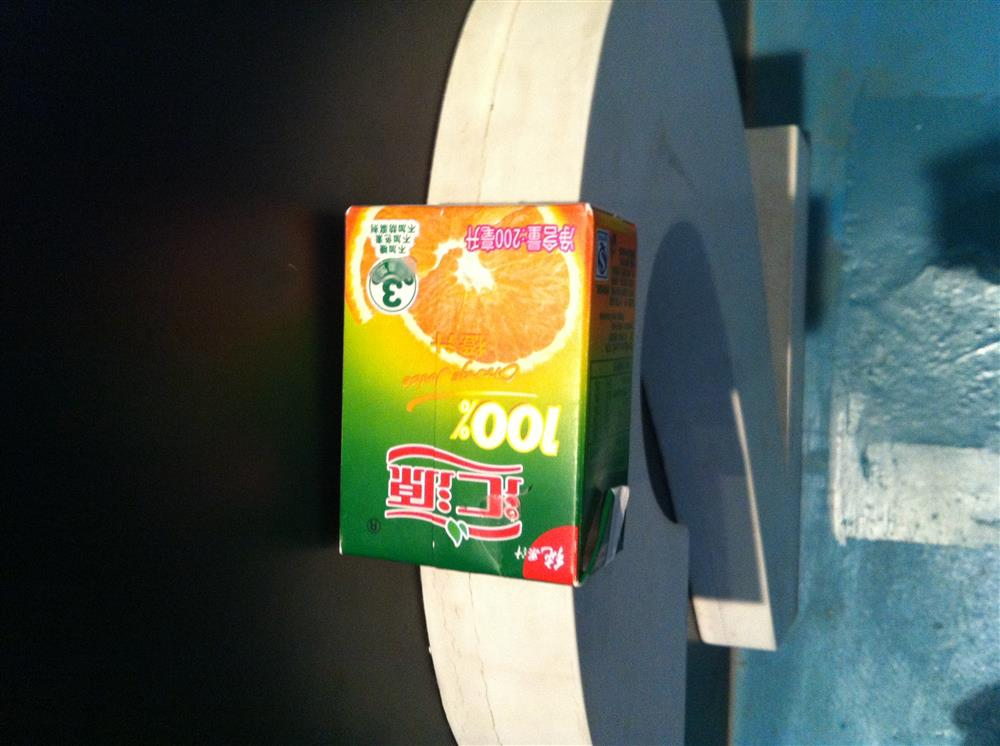huiyuan_juice: (314, 167, 618, 602)
